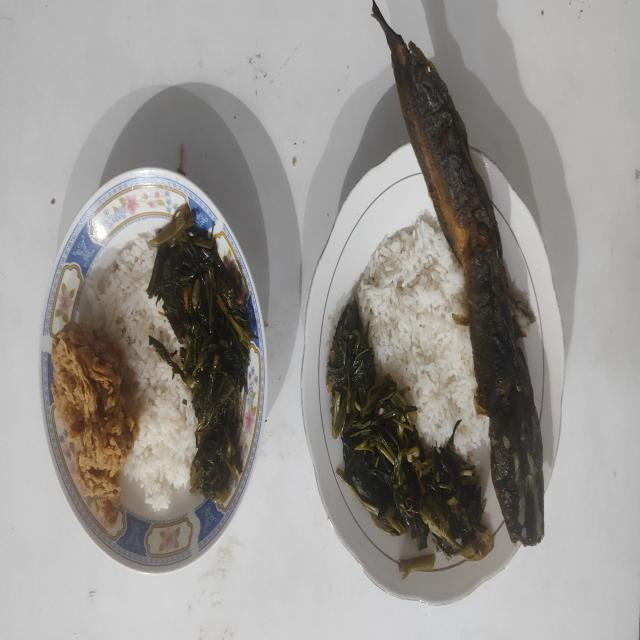nasi_putih: (356, 211, 488, 464), (90, 230, 198, 510)
tumis_kangkung: (326, 304, 495, 560), (148, 204, 254, 510)
